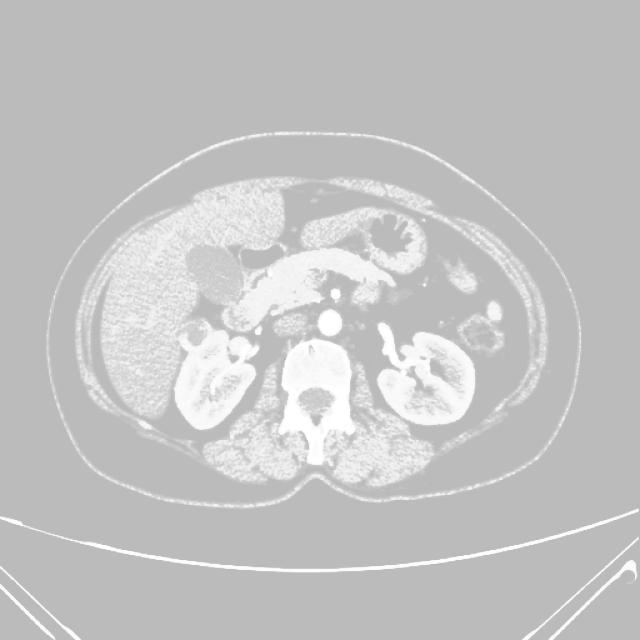TUMOR: (180, 207, 574, 457)
